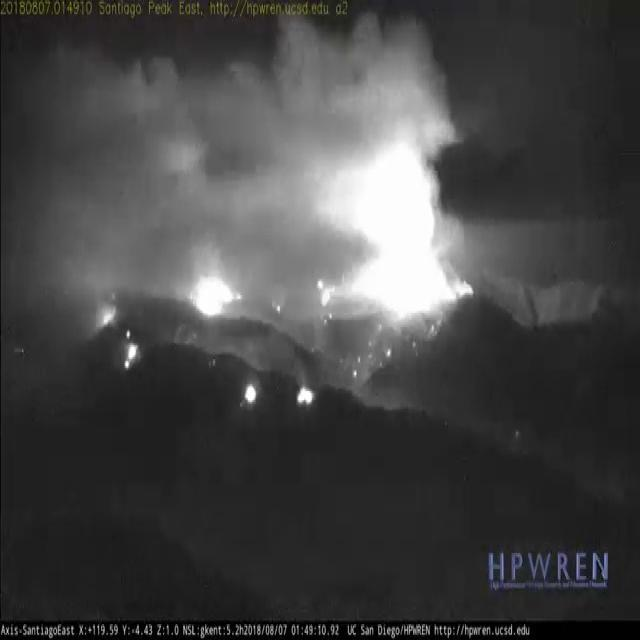Fire: (321, 164, 469, 316), (185, 270, 237, 315)
Smoke: (9, 28, 470, 352)
